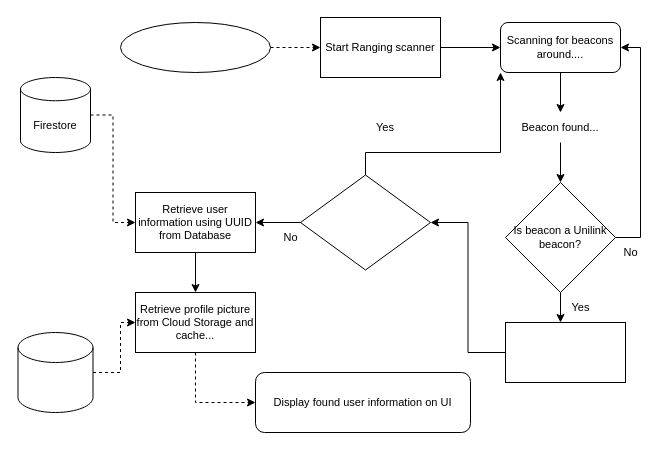
Some shapes in this 667 by 450 pixel diagram are drawn without their labels. Each missing label, with the centre of its shape:
"Cloud Storage" belongs at [55,372].
"Discovering Mode Enabled" belongs at [195,47].
"Is the UUID already found?" belongs at [365,222].
"Retreive UUID data from Advertisement Data" belongs at [565,352].
